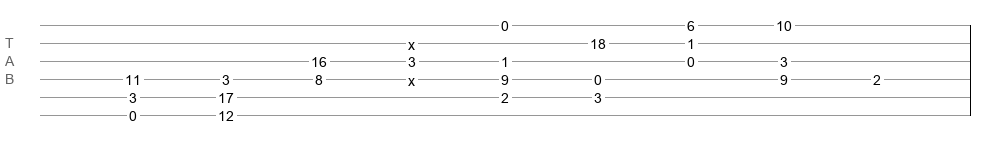0: (129, 108, 137, 118), (501, 18, 509, 28), (594, 72, 602, 82), (687, 54, 695, 64)
1: (501, 54, 509, 64), (687, 36, 695, 46)
10: (776, 18, 792, 28)
11: (125, 72, 141, 82)
12: (218, 108, 234, 118)
16: (311, 54, 327, 64)
17: (218, 90, 234, 100)
18: (590, 36, 606, 46)
2: (501, 90, 509, 100), (873, 72, 881, 82)
3: (129, 90, 137, 100), (222, 72, 230, 82), (408, 54, 416, 64), (594, 90, 602, 100), (780, 54, 788, 64)
6: (687, 18, 695, 28)
8: (315, 72, 323, 82)
9: (501, 72, 509, 82), (780, 72, 788, 82)
x: (408, 37, 415, 45), (408, 73, 415, 81)
